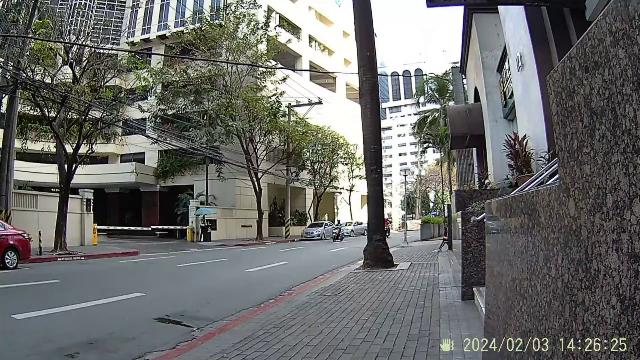tree: (51, 129, 81, 253), (245, 154, 271, 241)
utility_post: (359, 1, 388, 270), (280, 92, 326, 198)
